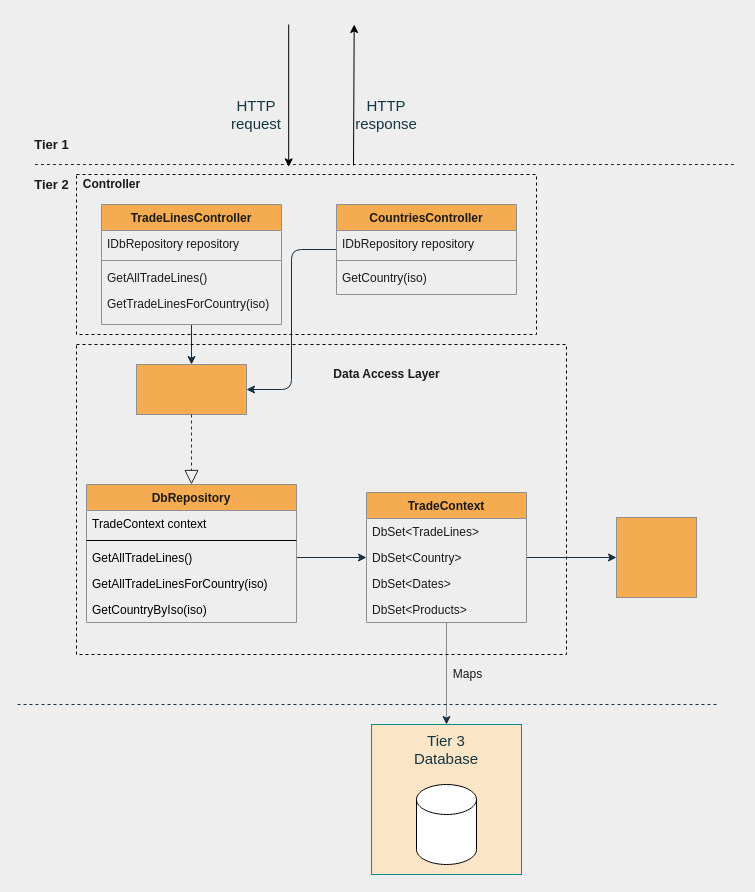
This 755x892 diagram has some shape labels left out. The shapes that lost their labels are listed below. From the top down, each one's centre as x and y in pixels, then its label:
At (191,389): "«interface» IDbRepository".
At (656,557): "Model".
